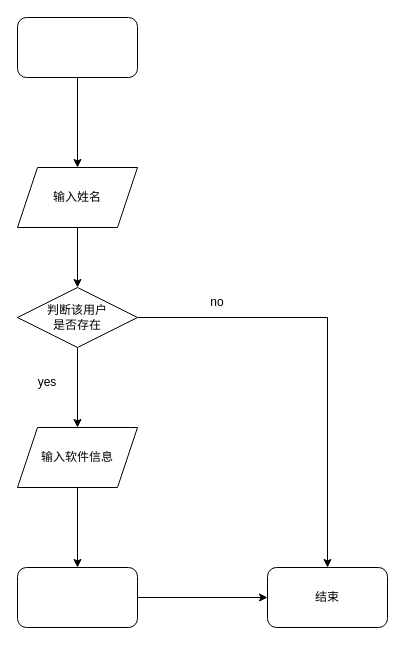
Some shapes in this 405 by 645 pixel diagram are drawn without their labels. Here are the shapes that lost their labels. From the top down, the centre of each, then its label:
At [77,47]: "开始".
At [77,597]: "保存文件".
